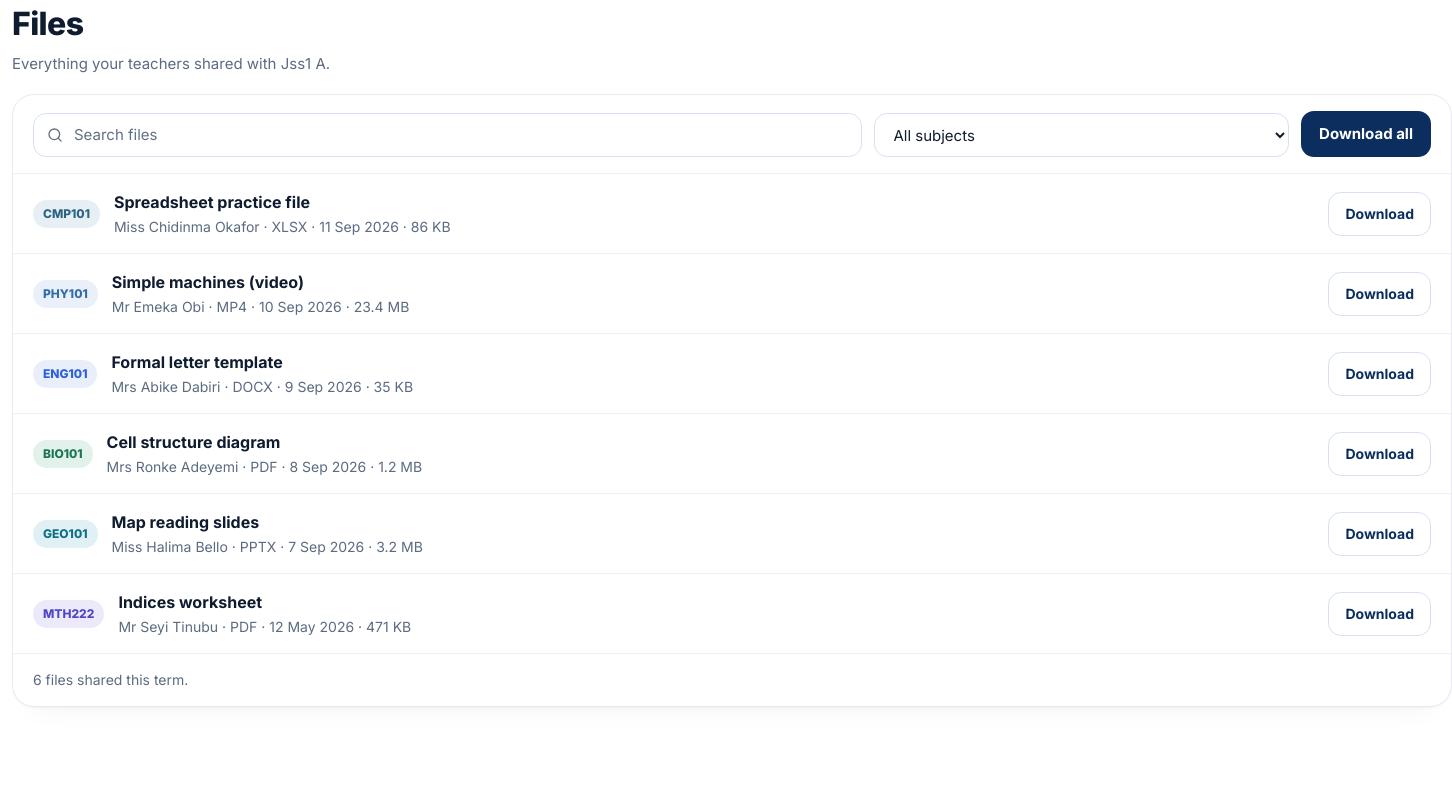
it: Files screen › filters by subject, names the subject on Download all, and keeps it in the address
Expected: the list named "Files" is shown, [13,174,1451,654]
Select "Biology" in the dropdown named "Subject" at (1082, 135), box [874,113,1289,157]
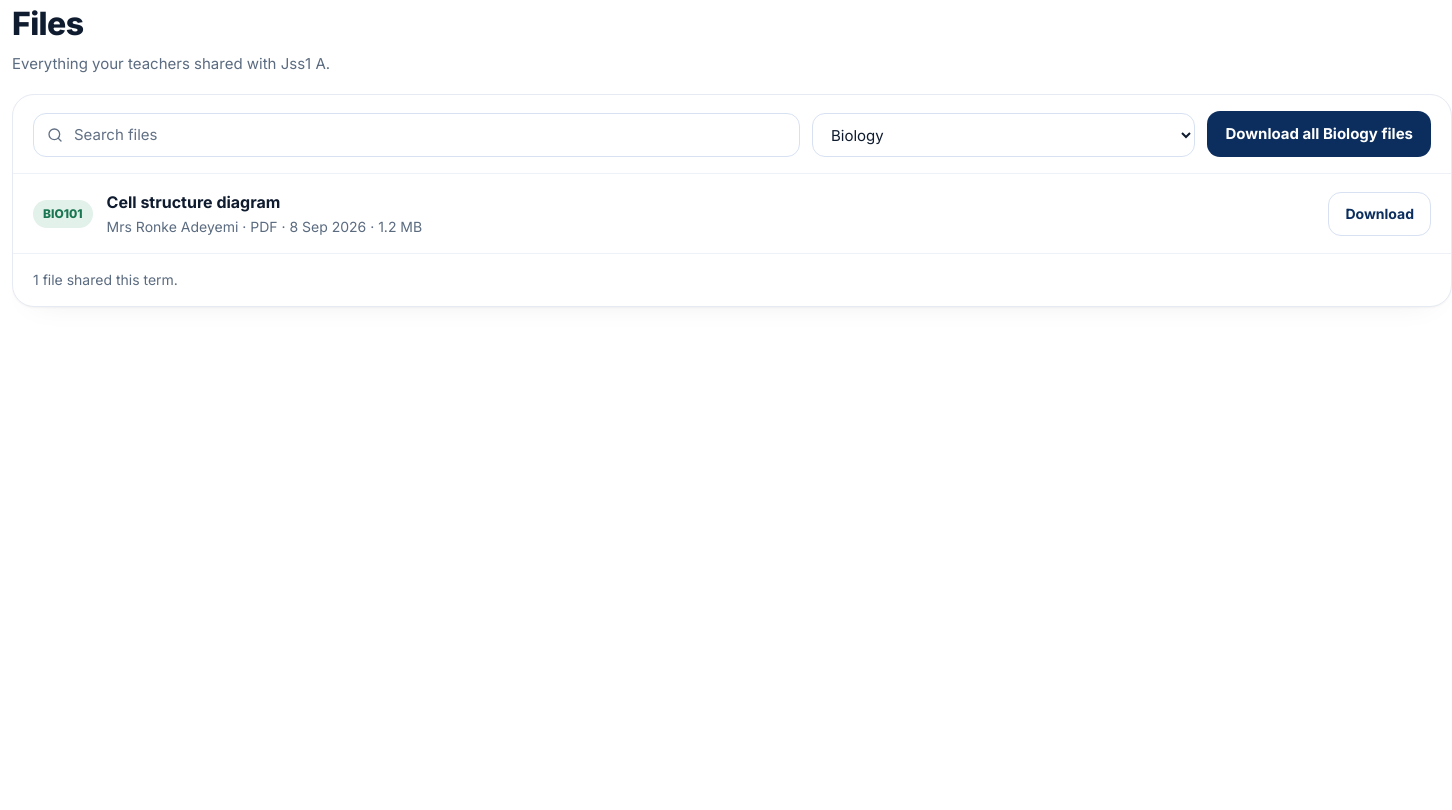
Expected: the list item shows "Cell structure diagram", [107,192,280,212]
Expected: the number of list items is 1, [13,174,1451,254]
Expected: the button "Download all Biology files" is shown, [1208,110,1431,157]
